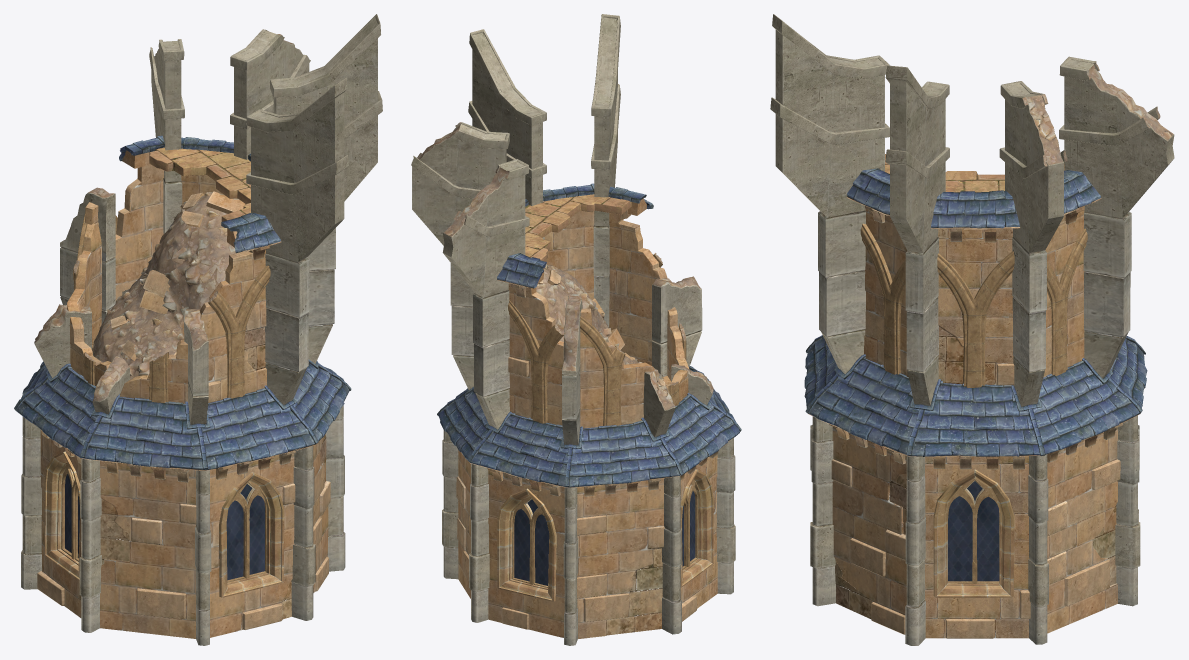
The picture shows the model from 3 angles, left to right: view 1: azimuth 30°, elevation 25°; view 2: azimuth 150°, elevation 25°; view 3: azimuth 270°, elevation 25°; orthographic projection. The views are drawn at different scales.
Parts seen in each view (by area): view 1: SM_Magic_Institute_01v02_Top_LOD0; view 2: SM_Magic_Institute_01v02_Top_LOD0; view 3: SM_Magic_Institute_01v02_Top_LOD0.
Part boxes in pixels (x1,y1,x2,y2): SM_Magic_Institute_01v02_Top_LOD0: (14,14,382,645); SM_Magic_Institute_01v02_Top_LOD0: (411,14,741,645); SM_Magic_Institute_01v02_Top_LOD0: (770,14,1174,645).
Size of the model in its own units: 10.95 by 18.95 by 11.66.
8 materials, 8 textured.
